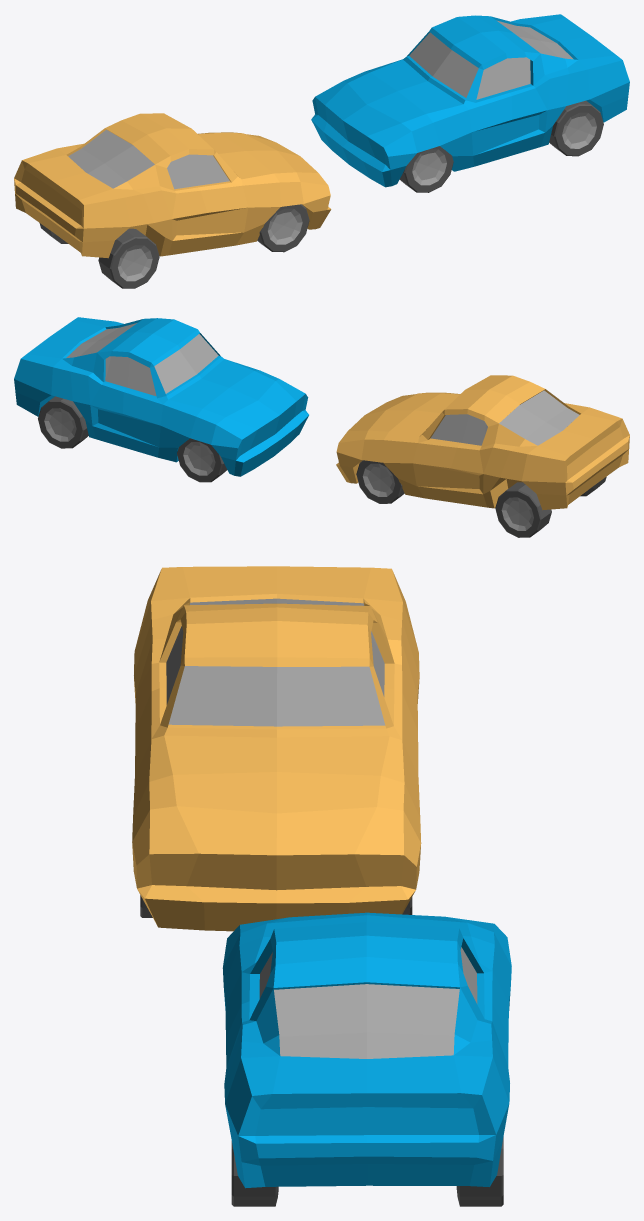
Rendered from car.fbx.
3 views of the same model, one above another, from view 1: azimuth 30°, elevation 25°; view 2: azimuth 150°, elevation 25°; view 3: azimuth 270°, elevation 25° (orthographic). The views are drawn at different scales.
Visible parts, largest first — view 1: body, body.001, BRW.001, BLW, FRW.001, FLW; view 2: body, body.001, BLW.001, BRW, FRW, FLW.001; view 3: body.001, body, BRW, BLW.
Boxes of the visible parts, <box> form: body: <box>311,14,629,187</box>; body.001: <box>14,113,331,258</box>; BRW.001: <box>98,228,159,288</box>; BLW: <box>549,100,603,156</box>; FRW.001: <box>257,204,309,252</box>; FLW: <box>399,146,453,192</box>; body: <box>14,317,308,476</box>; body.001: <box>336,375,629,510</box>; BLW.001: <box>495,482,551,537</box>; BRW: <box>38,396,88,448</box>; FRW: <box>177,438,227,482</box>; FLW.001: <box>356,460,404,503</box>; body.001: <box>132,566,421,931</box>; body: <box>222,912,511,1188</box>; BRW: <box>456,1137,503,1206</box>; BLW: <box>231,1141,278,1206</box>.
Bounding box in the file's own units: 945 × 183 × 290.
